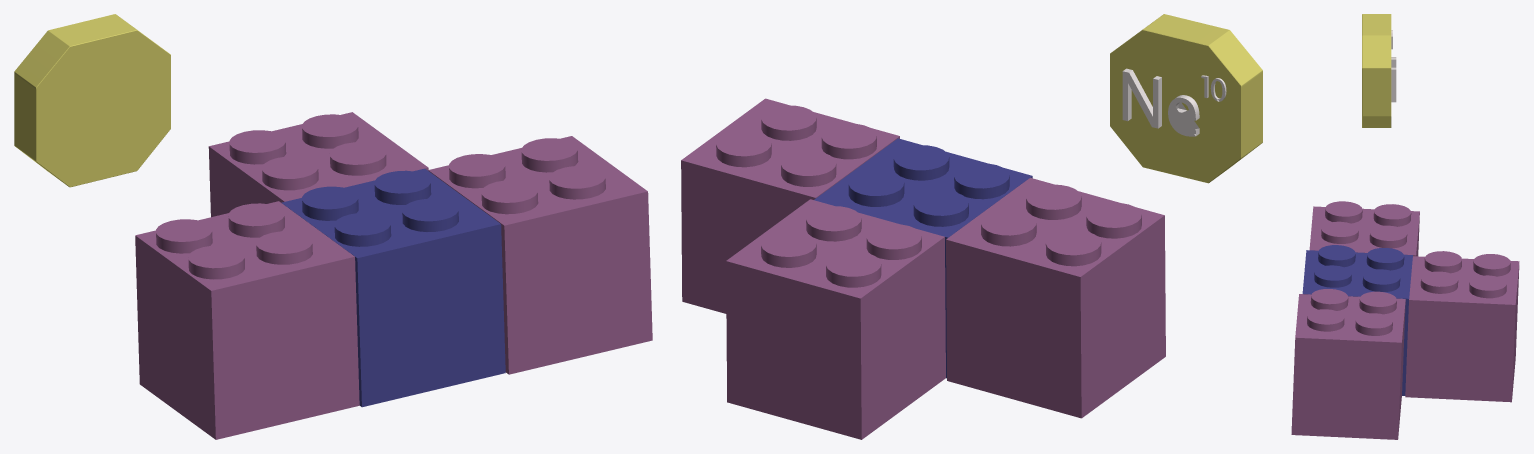
Rendered from Neon Object.fbx.
3 renders of one model, left to right at view 1: azimuth 30°, elevation 25°; view 2: azimuth 150°, elevation 25°; view 3: azimuth 270°, elevation 25°, orthographic. The views are drawn at different scales.
Parts seen in each view (by area): view 1: Neon; view 2: Neon; view 3: Neon.
Boxes of the visible parts, x1=… form: Neon: x1=14, y1=14, x2=652, y2=439; Neon: x1=681, y1=14, x2=1262, y2=439; Neon: x1=1291, y1=14, x2=1519, y2=439.
Bounding box in the file's own units: 4.21 × 2.82 × 2.23.
